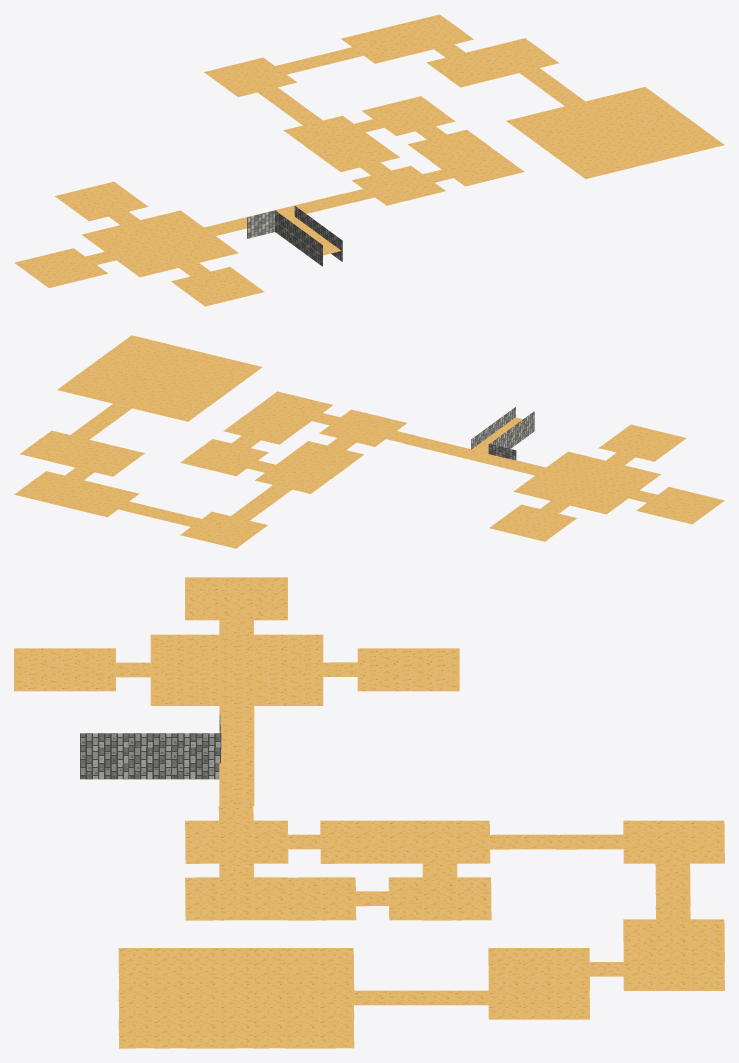
File: stage2_ground.FBX
The picture shows the model from 3 angles, top to bottom: view 1: azimuth 30°, elevation 25°; view 2: azimuth 150°, elevation 25°; view 3: azimuth 270°, elevation 25°; orthographic projection. The views are drawn at different scales.
Parts seen in each view (by area): view 1: Floor_Soil_429; view 2: no part large enough to name; view 3: Floor_Soil_424, Floor_Soil_197, Floor_Soil_422, Floor_Soil_428.
Boxes of the visible parts, box(x1,y1,x2,y2) form: Floor_Soil_429: box(247, 210, 276, 238); Floor_Soil_424: box(171, 747, 220, 779); Floor_Soil_197: box(80, 747, 129, 779); Floor_Soil_422: box(128, 747, 175, 779); Floor_Soil_428: box(171, 733, 220, 747).
Size of the model in its own units: 48709 by 31060 by 1516.
2 materials, 2 textured.
